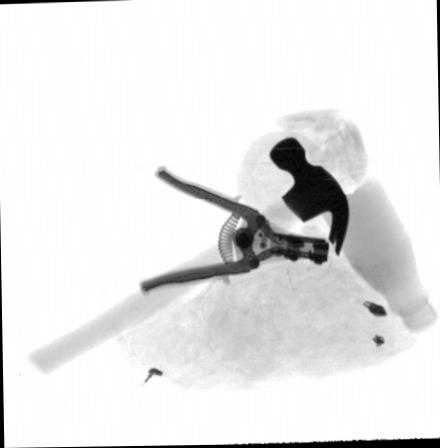Hammer: (27, 137, 350, 376)
Pliers: (139, 164, 328, 296)
